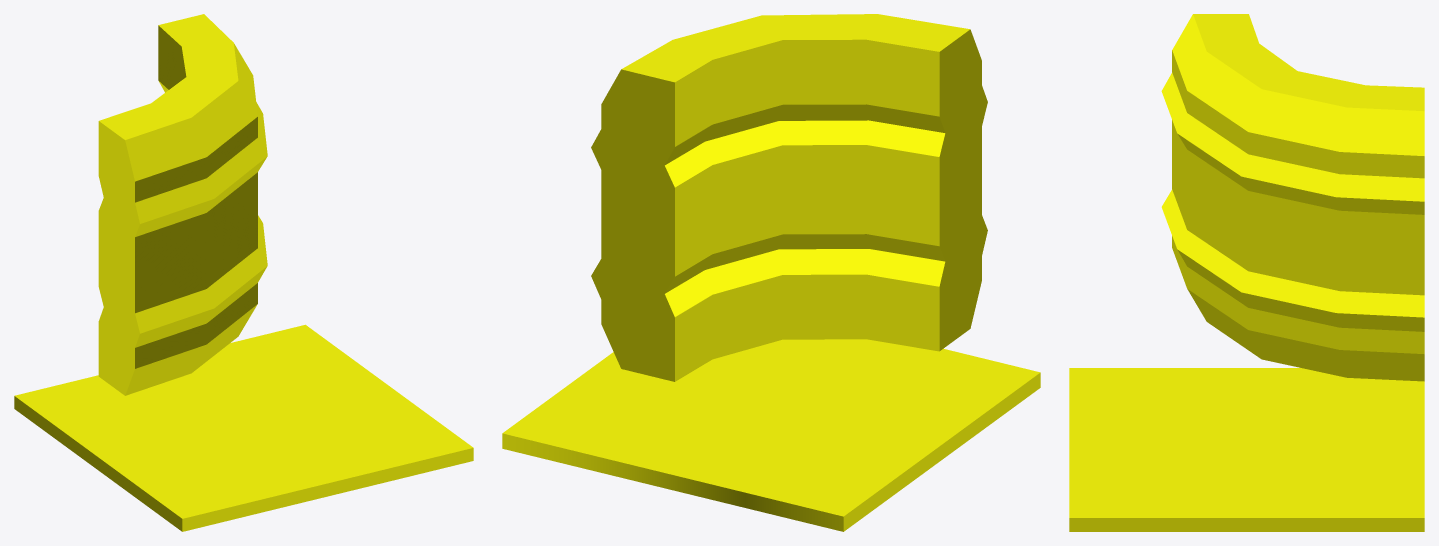
Rendered from parking_border002.glb.
3 views of the same model, side by side, from view 1: azimuth 30°, elevation 25°; view 2: azimuth 150°, elevation 25°; view 3: azimuth 270°, elevation 25° (orthographic). The views are drawn at different scales.
Parts seen in each view (by area): view 1: parking_border002; view 2: parking_border002; view 3: parking_border002.
Part boxes in pixels (x1=…): parking_border002: x1=14, y1=14, x2=473, y2=531; parking_border002: x1=502, y1=14, x2=1040, y2=531; parking_border002: x1=1069, y1=14, x2=1424, y2=531.
Size of the model in its own units: 0.9 by 1.03 by 0.9.
Materials: 1 (1 with a texture image).
